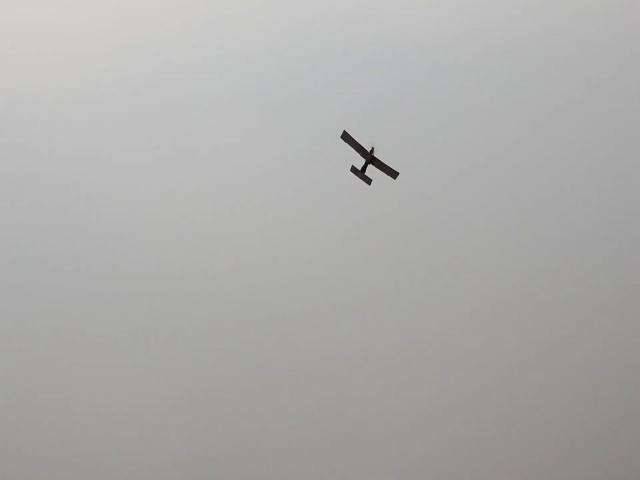plane: (339, 129, 399, 185)
